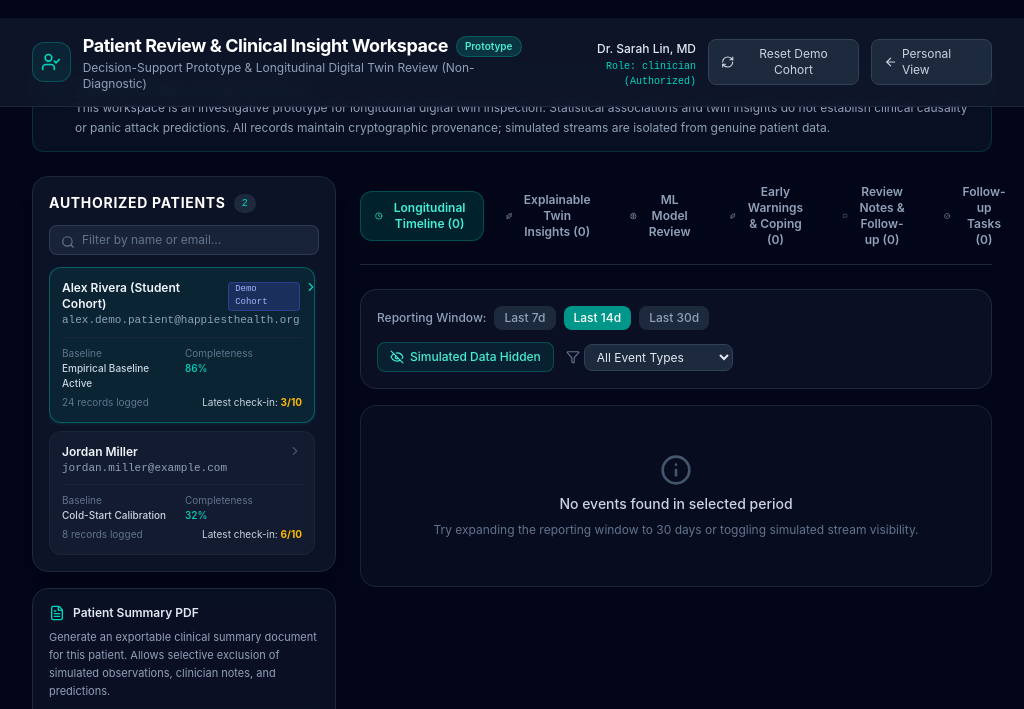
Phase 6.2 — ClinicianWorkspacePage Component › switches to Digital Twin Insights tab and displays non-causal disclosures
Click the button "Explainable Twin Insights (0)" at [550, 216], box [492, 184, 608, 248]
(page scrolled)
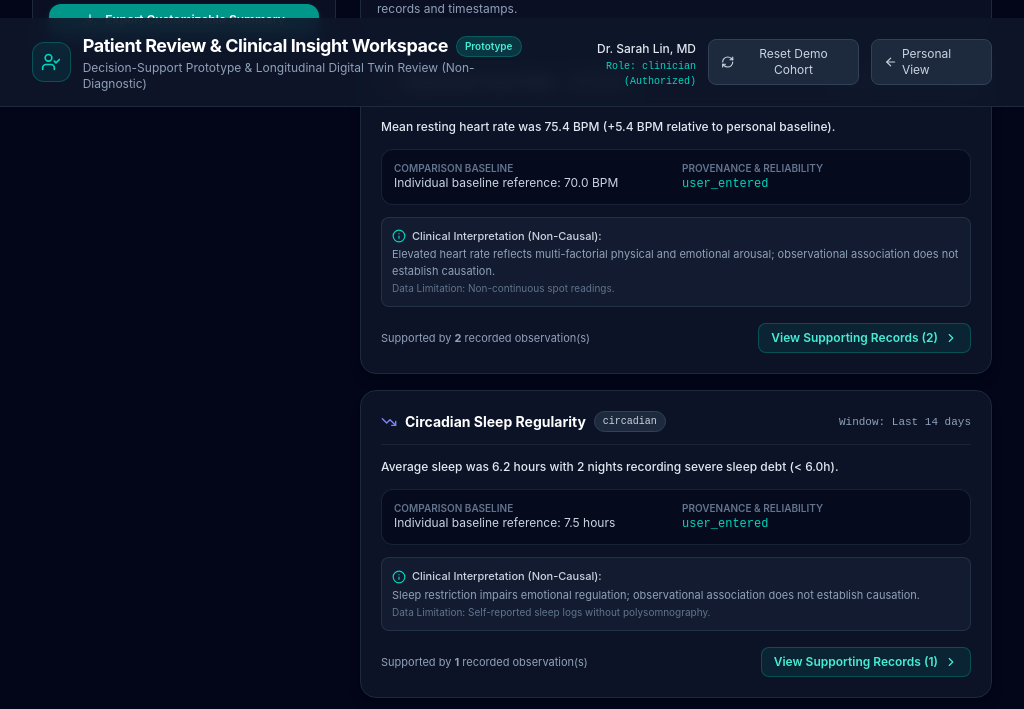
Expected: the heading "Autonomic Heart Rate" is shown, [405, 72, 555, 92]
Result: the heading "Circadian Sleep Regularity" is shown at [405, 412, 586, 432]
Result: the button "View Supporting Records (2)" is shown
Click the button "View Supporting Records (2)" at [865, 338], box [758, 324, 971, 354]
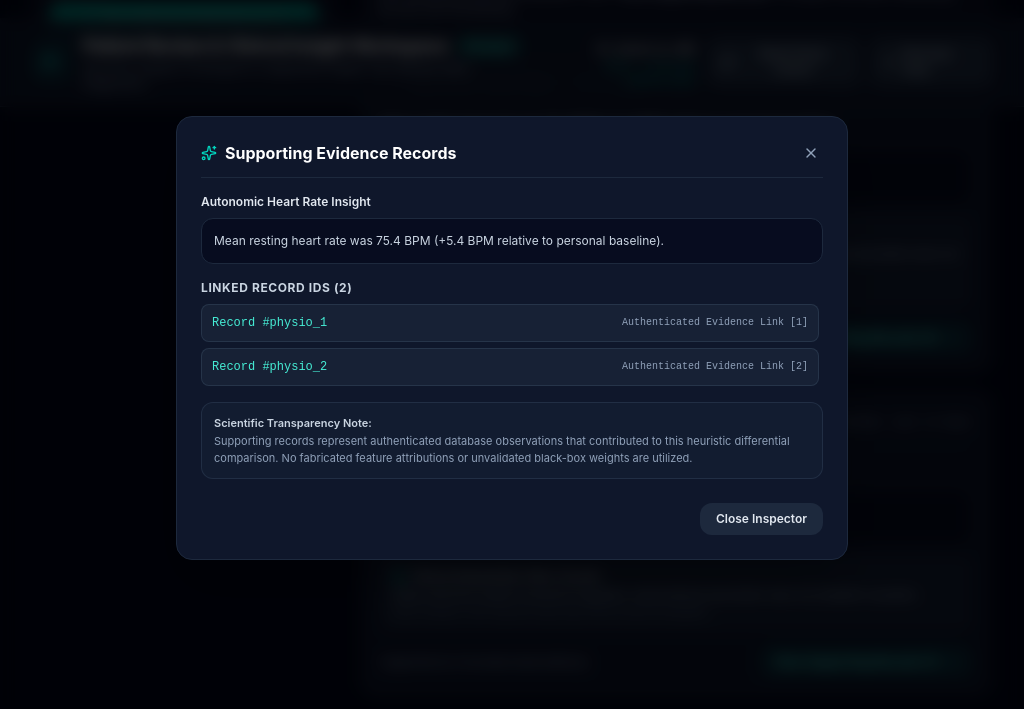
Result: the text "Scientific Transparency Note:" is shown at [214, 416, 372, 430]
Result: the text "Record #physio_1" is shown at [212, 314, 327, 330]
